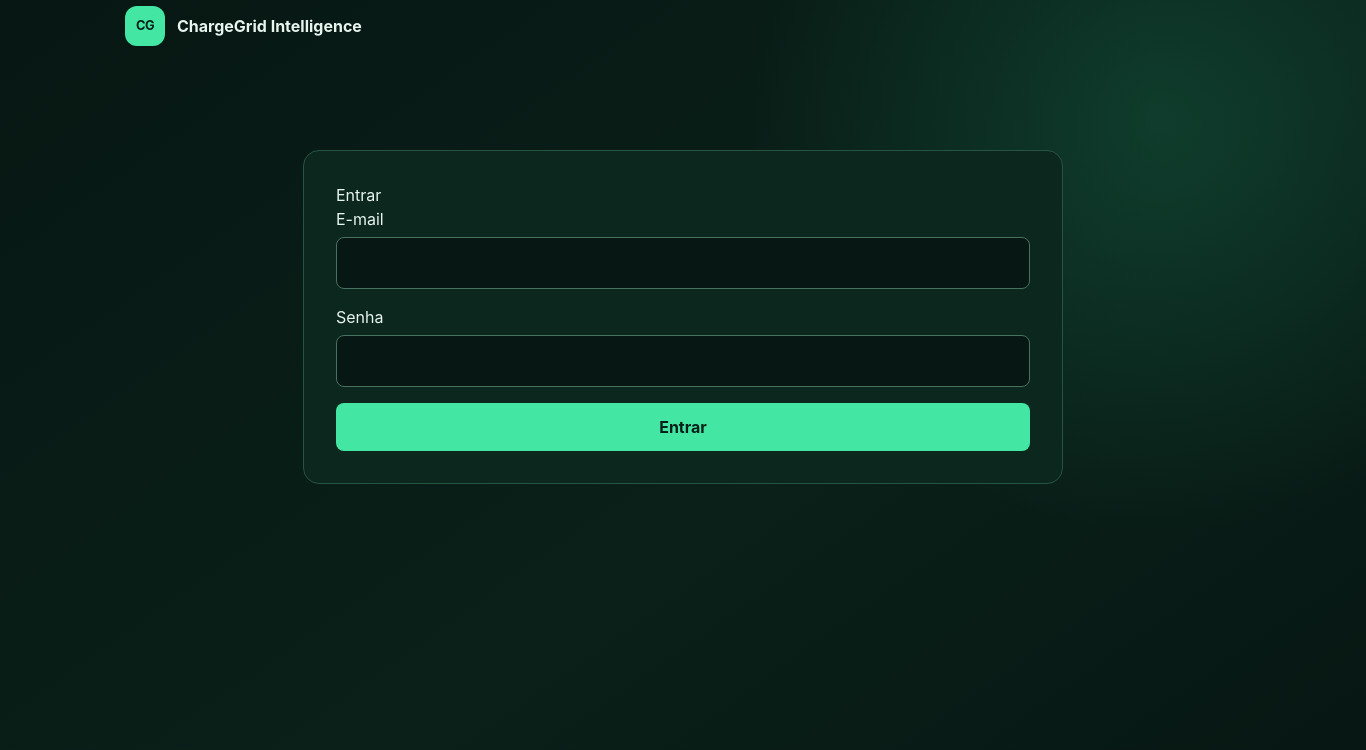
Test: authentication flow › logs in and shows the user dashboard with an empty state
Type "ana@example.com" into the field labelled "E-mail" at (683, 263), box [336, 237, 1030, 289]
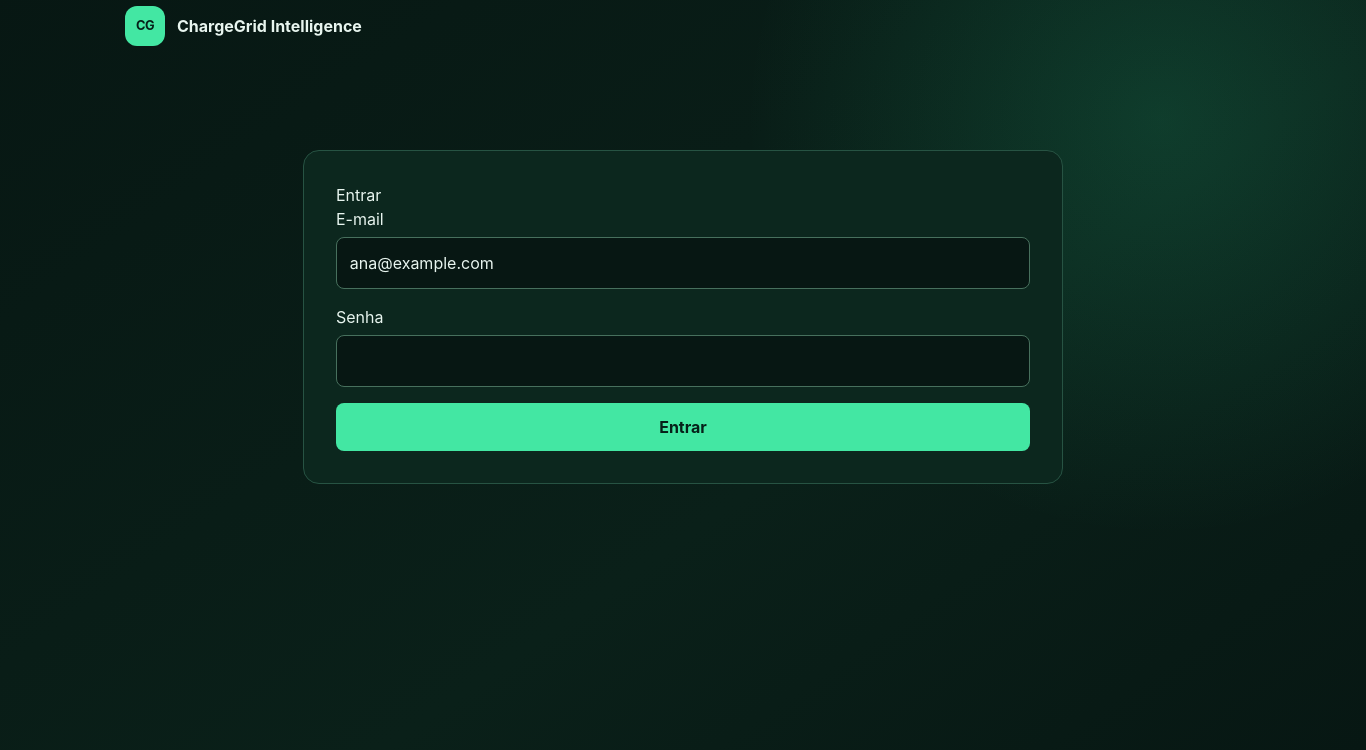
Type "password123" into the password field labelled "Senha" at (683, 361), box [336, 335, 1030, 387]
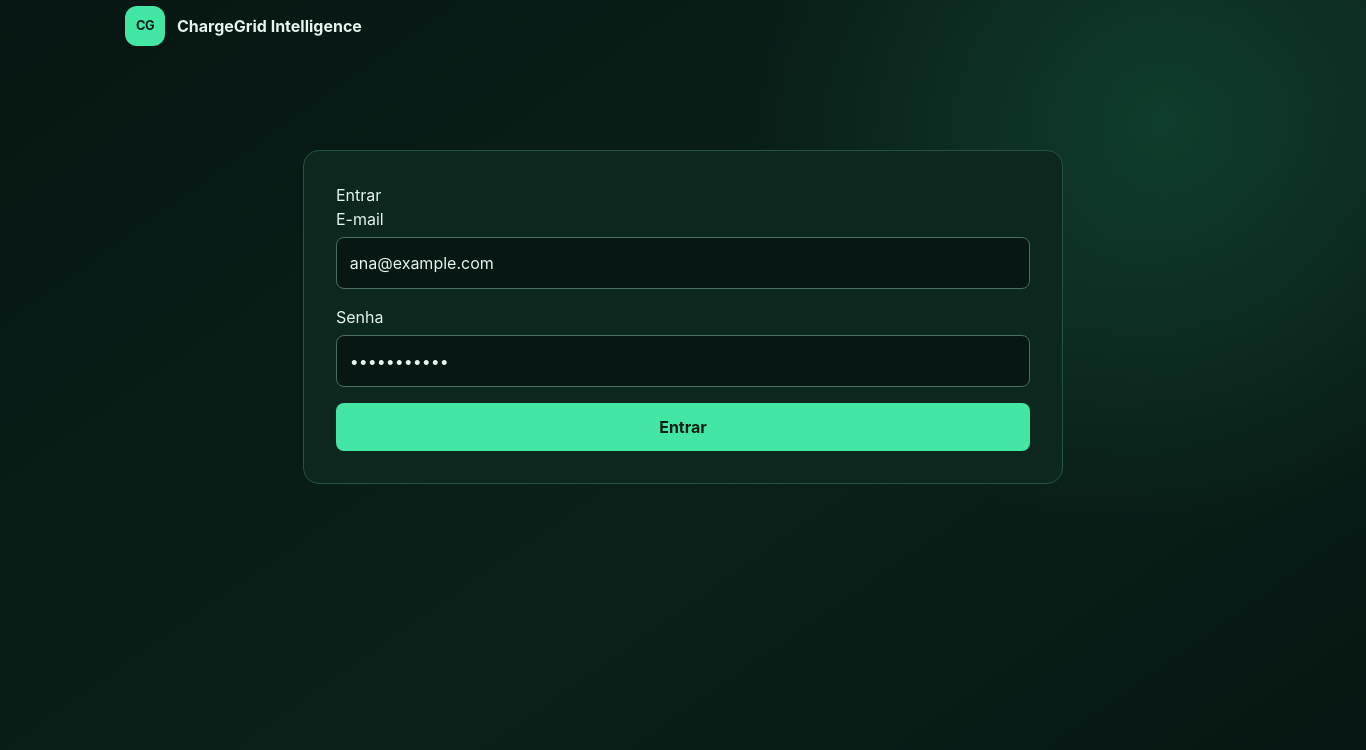
Click the button "Entrar" at (683, 427), box [336, 403, 1030, 451]
(page scrolled)
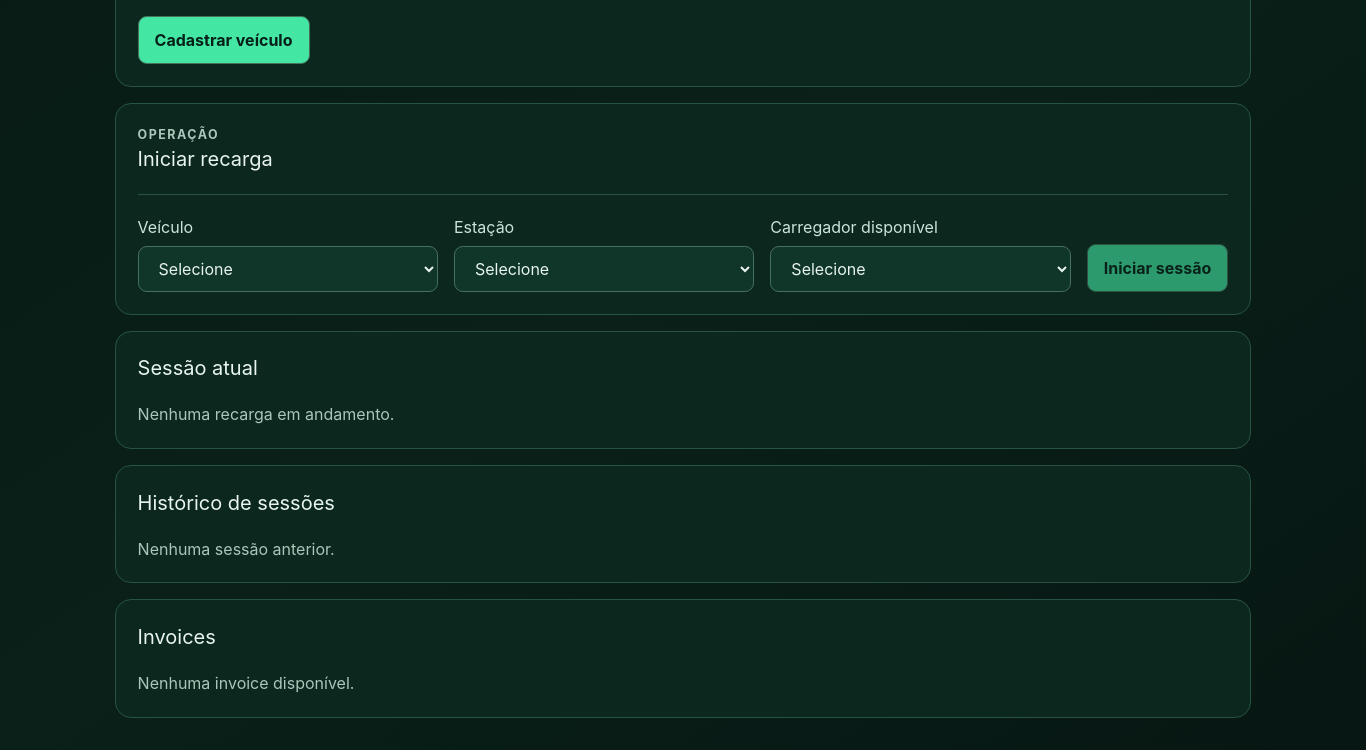
Check: the text "Nenhuma recarga em andamento." is shown, box [138, 404, 394, 424]
